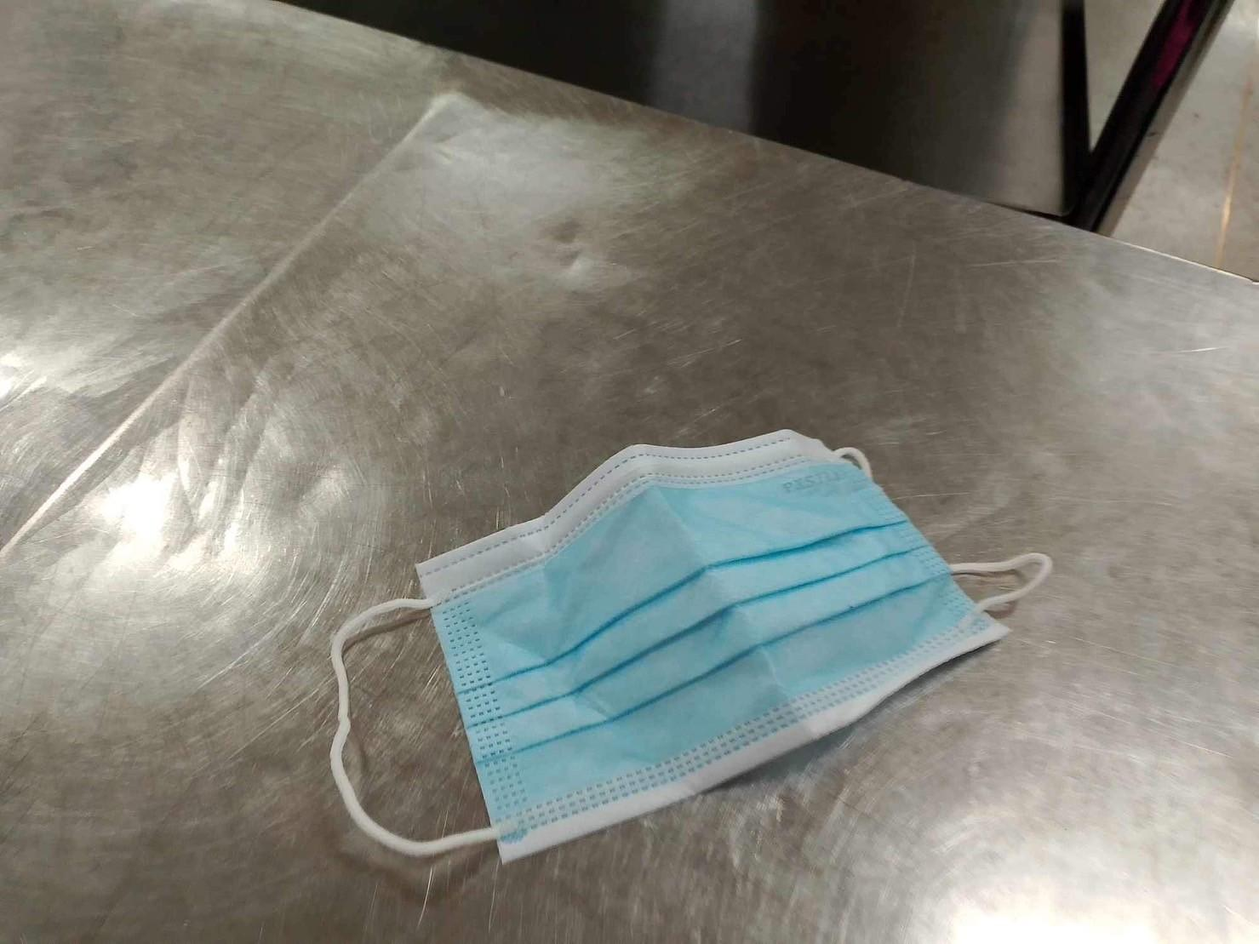Infectious: (329, 426, 1050, 866)
